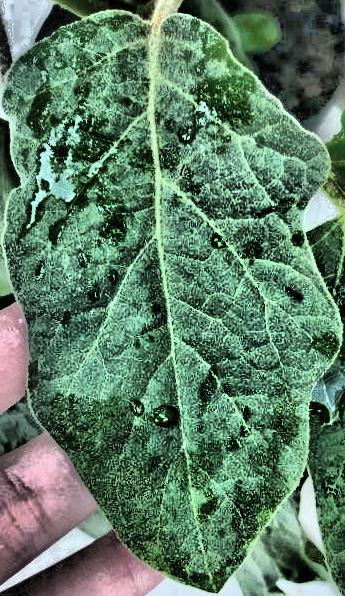HEALTHY: (1, 1, 345, 596)
